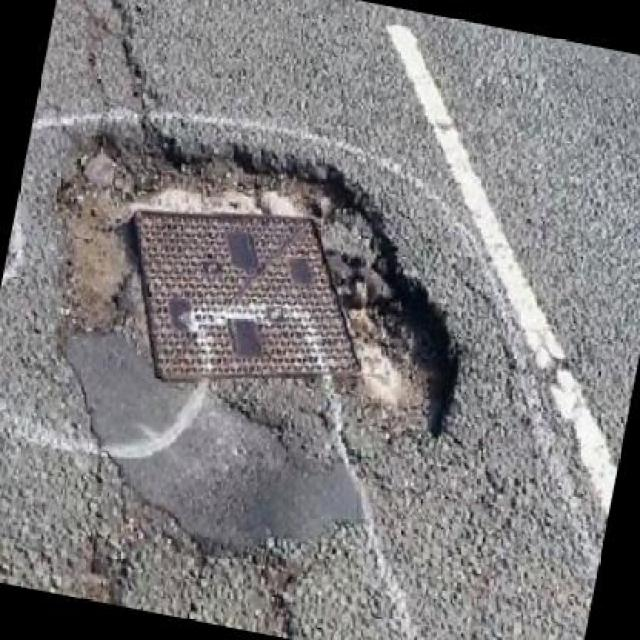pothole: (16, 101, 499, 447)
